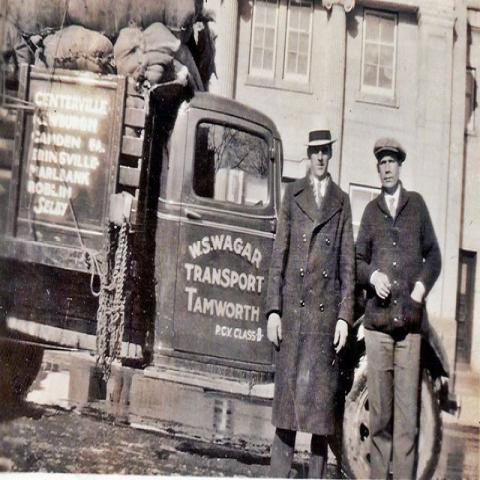truck: (0, 60, 464, 474)
